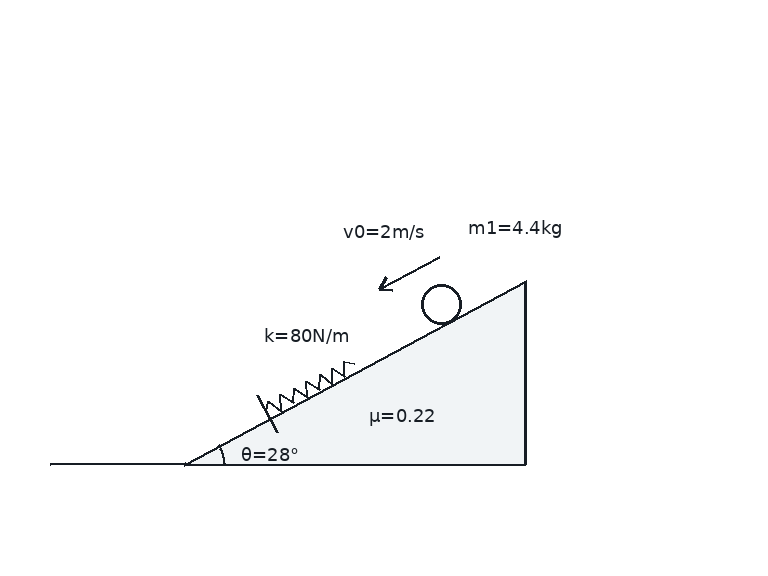ball: (419, 282, 463, 326)
ramp: (182, 280, 528, 466)
spring: (263, 359, 356, 413)
